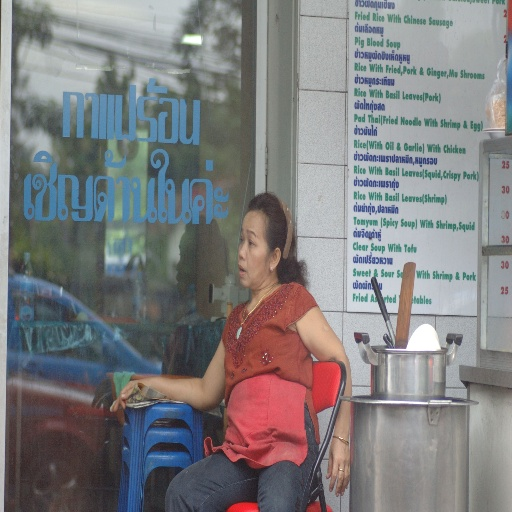hand: (329, 422, 353, 507), (109, 377, 151, 412)
